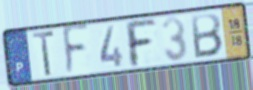3: (161, 14, 188, 65)
4: (98, 24, 125, 69)
B: (189, 11, 224, 60)
F: (122, 18, 159, 70), (61, 22, 92, 80)
T: (30, 29, 56, 79)
